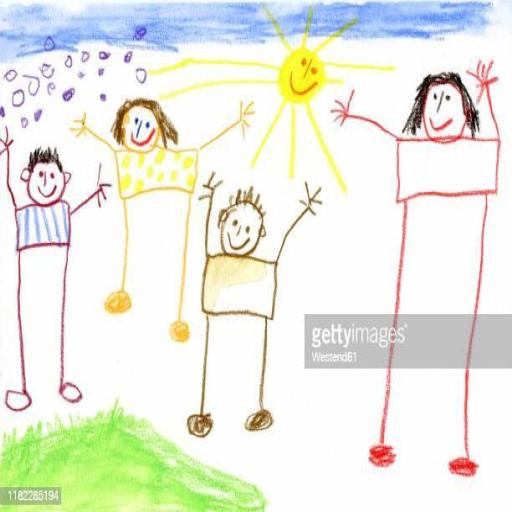person: (330, 42, 508, 488), (72, 74, 263, 344), (186, 164, 334, 448), (0, 125, 110, 414)
